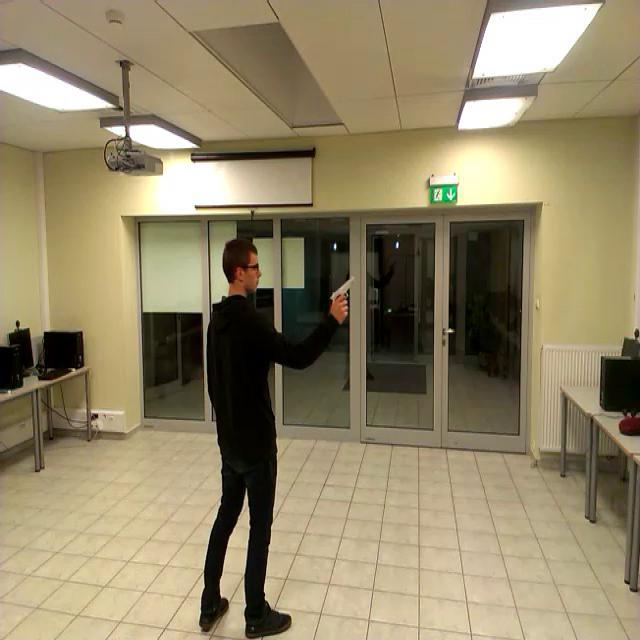Gun: (328, 275, 354, 312)
